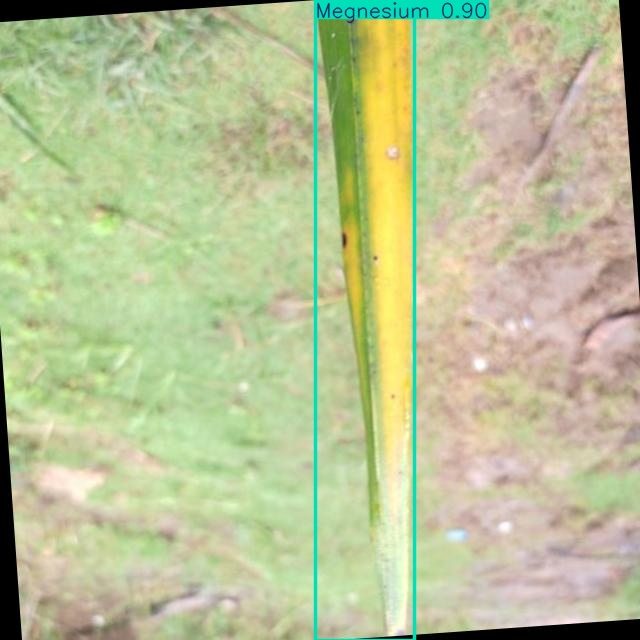Megnesium: (315, 0, 414, 640)
